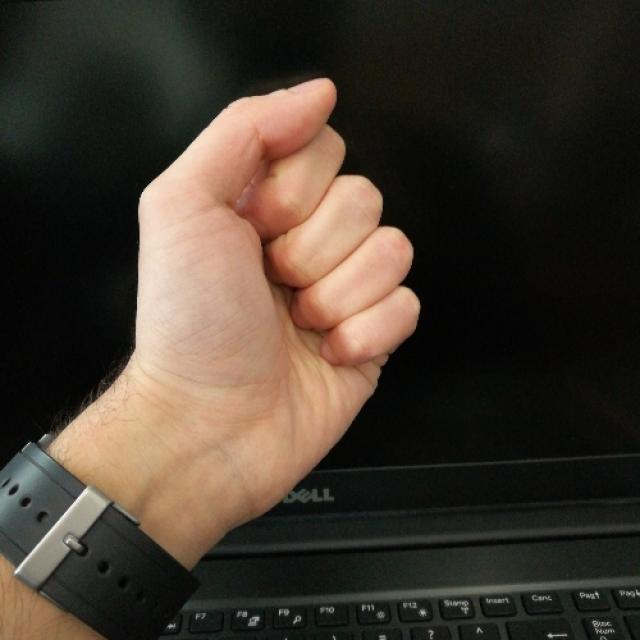fist: (138, 72, 421, 470)
